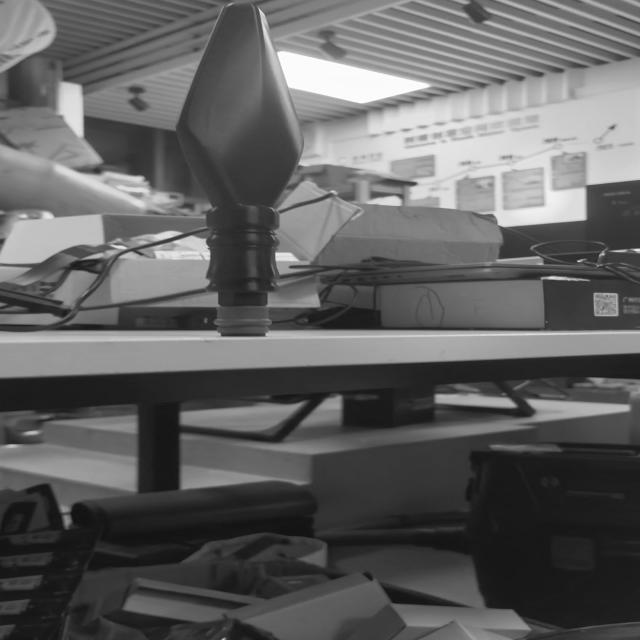base: (212, 303, 274, 335)
